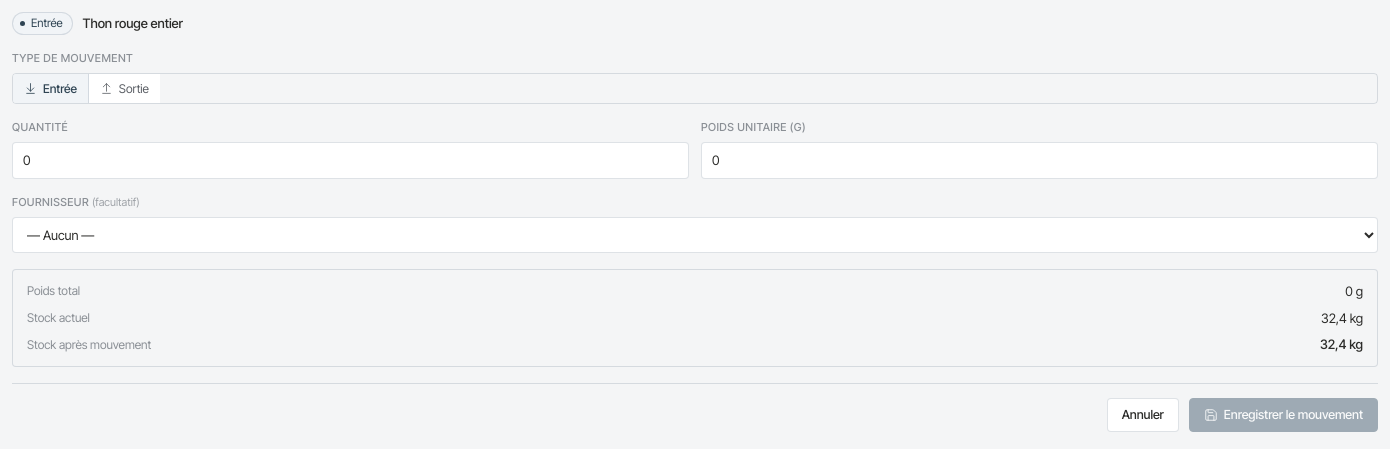
ErpStockMovement — récapitulatif live › signale un stock insuffisant quand une sortie dépasse le stock
Click the button with class "seg-btn" showing "Sortie" at (124, 88), box [89,74,160,103]
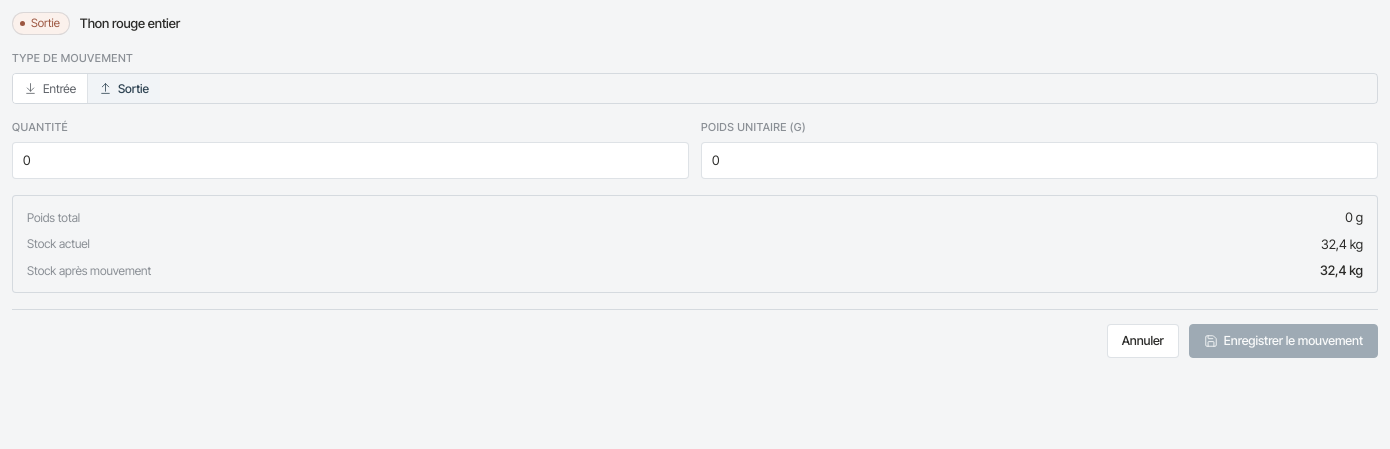
Type "100" into the number field named "qty" at (350, 160), box [12,142,689,179]
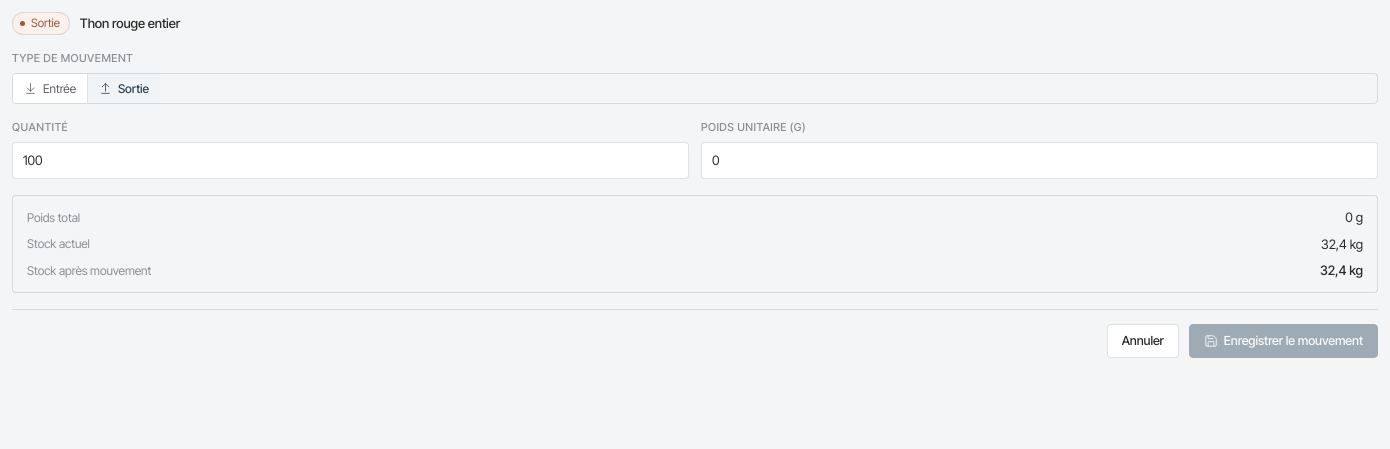
Type "1000" into the number field named "unitWeight" at (1040, 160), box [701,142,1378,179]
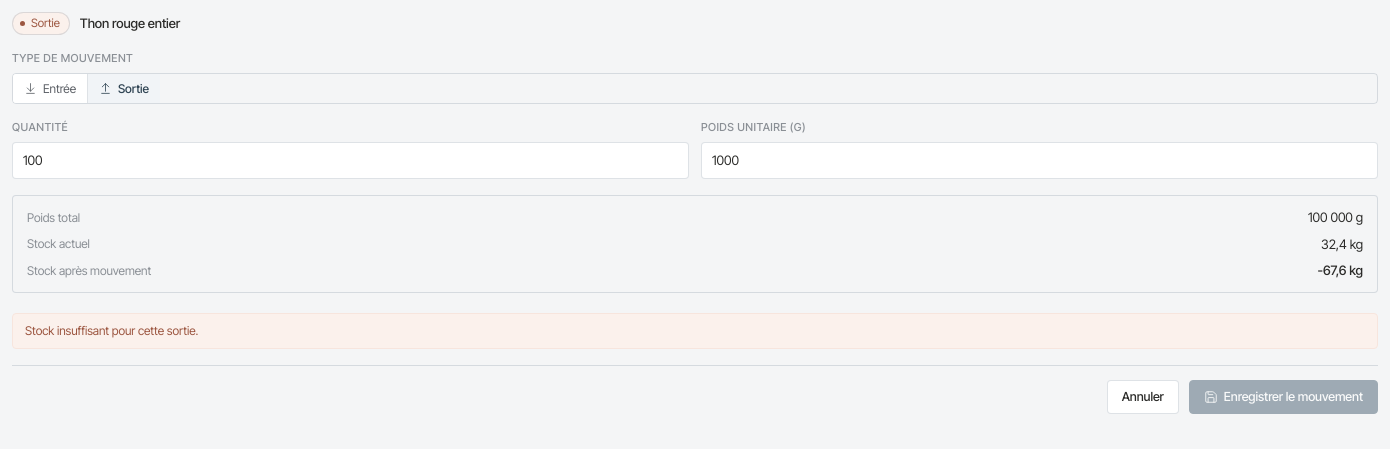
Check: the text with class "movement-warning" shows "insuffisant", box [25,323,198,338]
